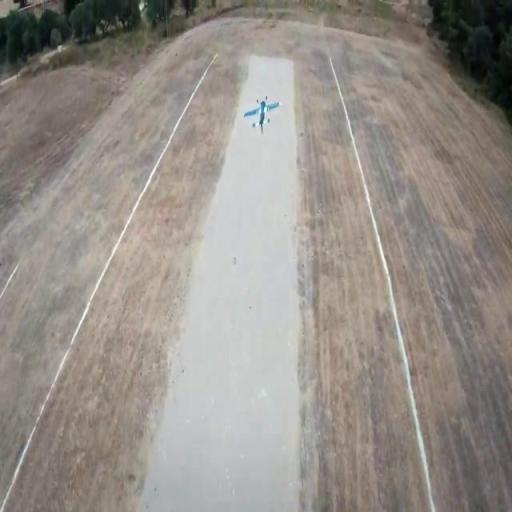uav: (243, 98, 281, 131)
